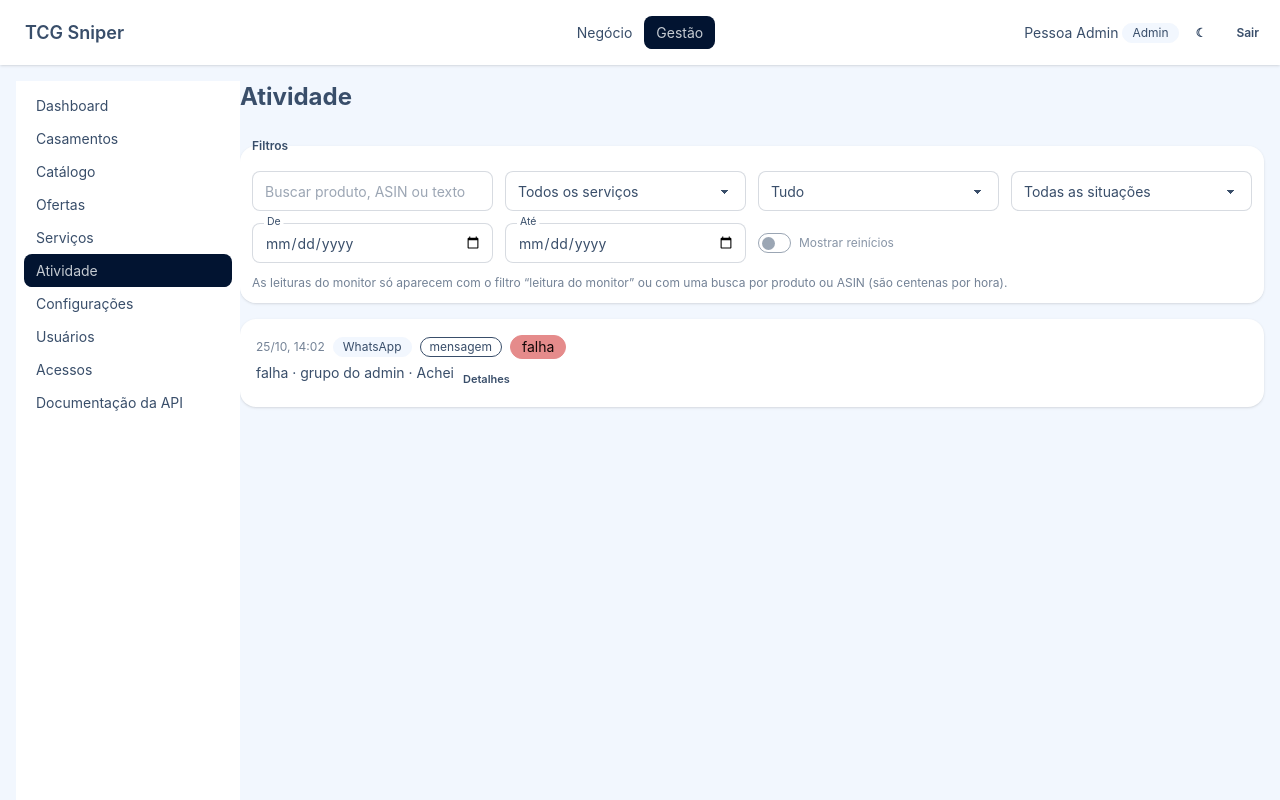
Test: Atividade › Descartar mostra o erro 409 e mantém a linha
Click the button "Detalhes".
click(486, 379)  # box [454, 367, 519, 391]
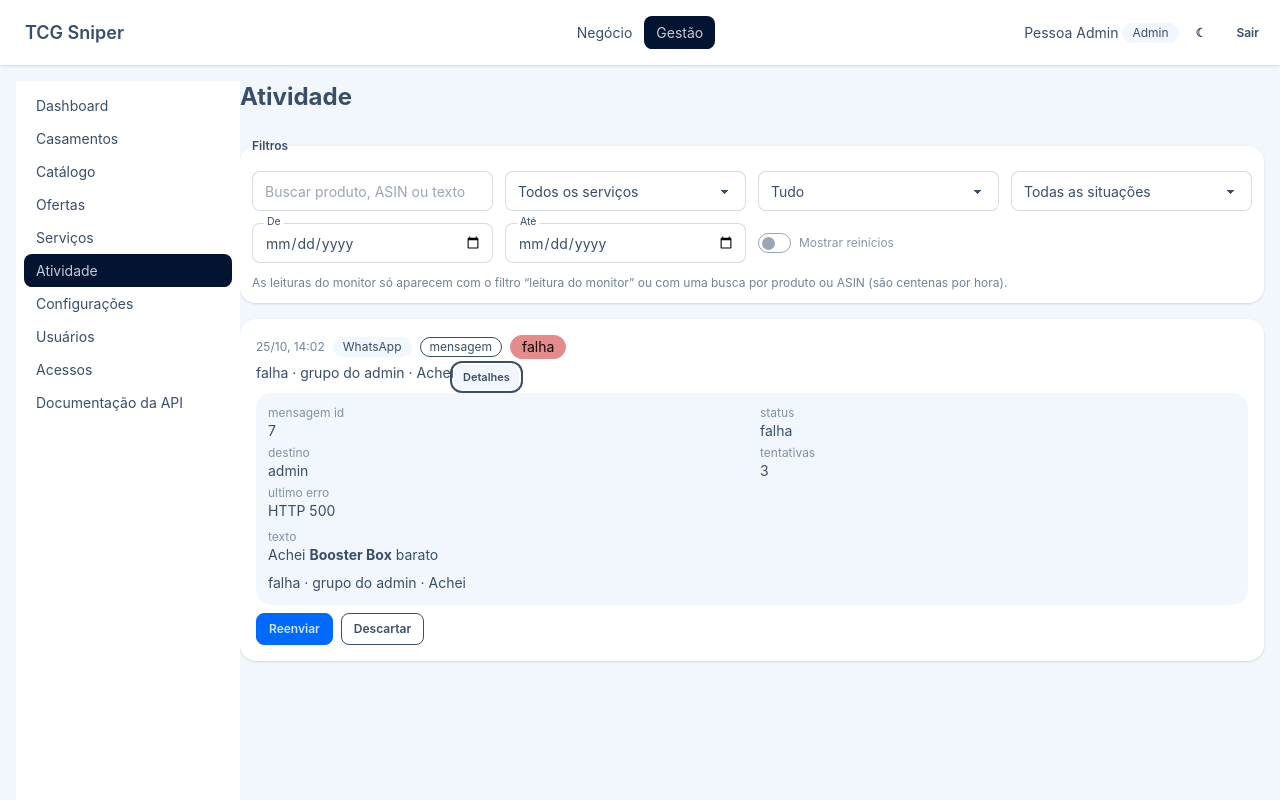
Click the button "Descartar".
click(383, 629)  # box [341, 613, 424, 645]
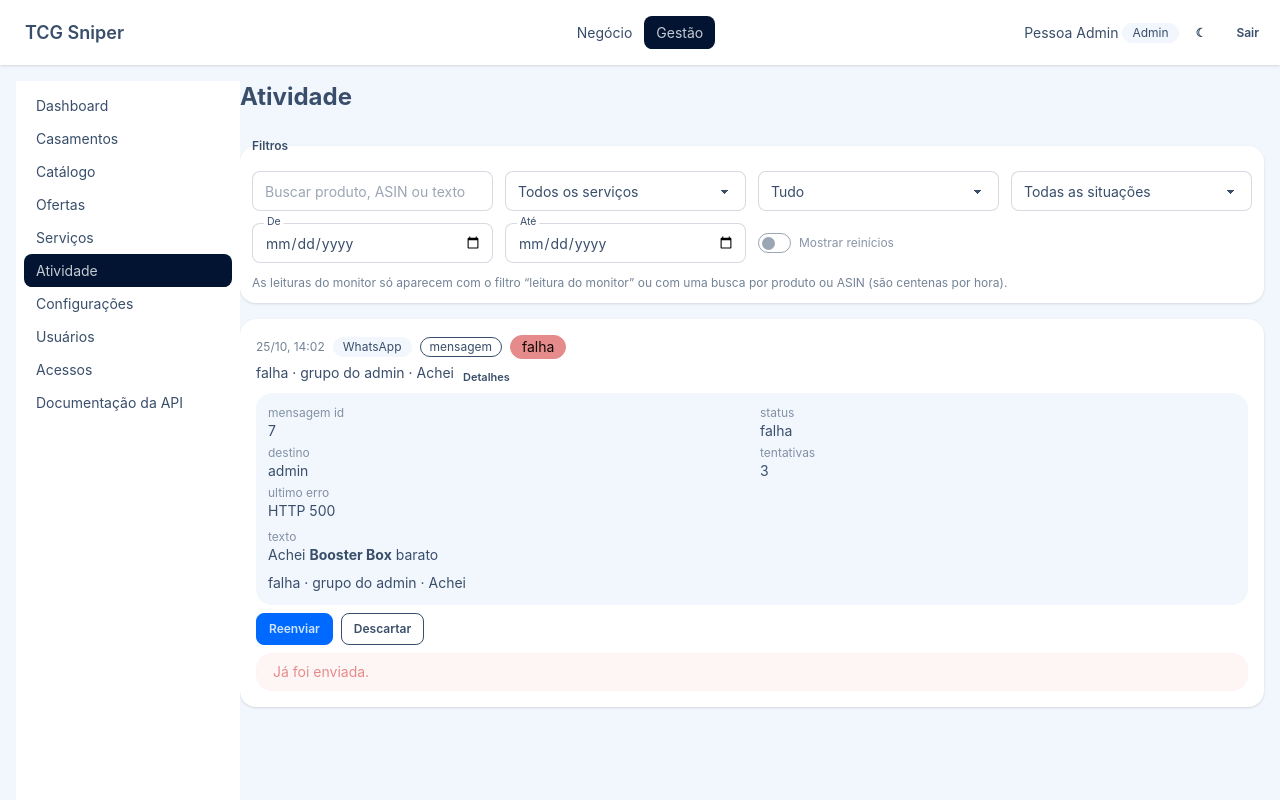
Expected: the button "Descartar" is shown, [341, 613, 424, 645]
Expected: the text "Já foi enviada." is shown, [273, 662, 369, 682]
